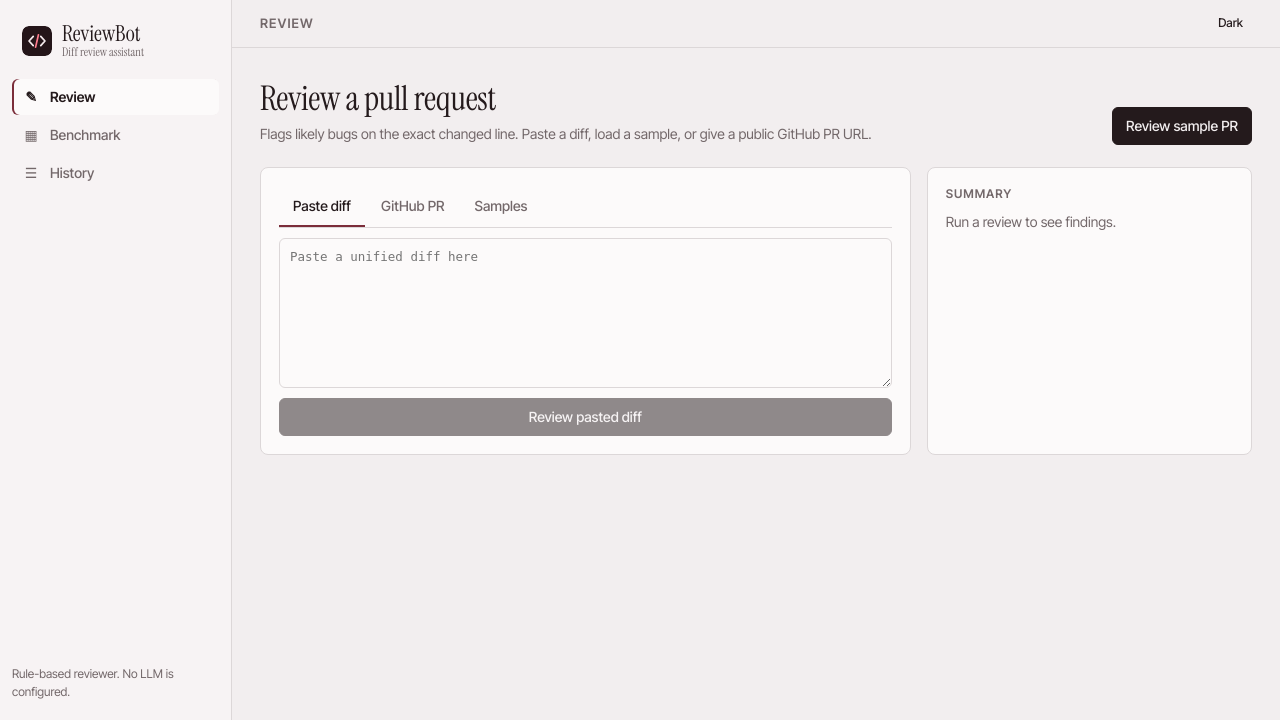
Test: Review sample reviews the sample and flags the vulnerable line
Click the button "Review sample PR" at (1182, 126), box [1112, 107, 1252, 145]
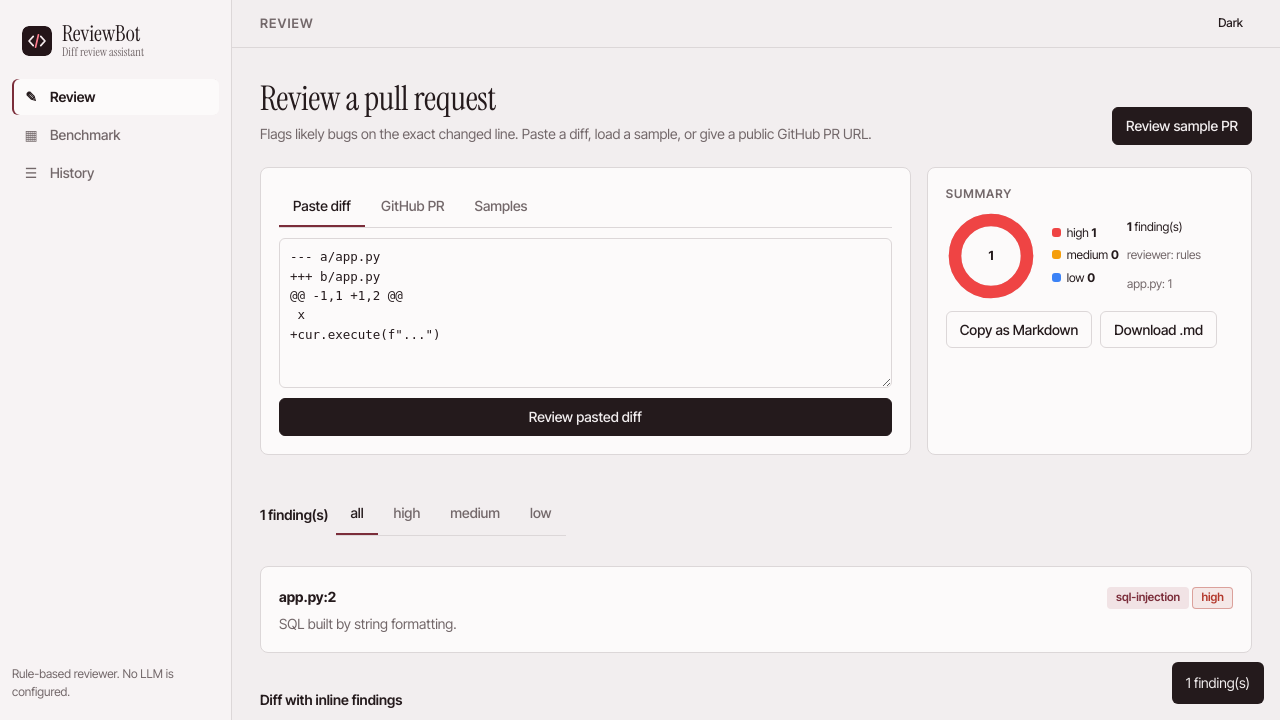
Check: the text "app.py:2" is shown, box [279, 586, 336, 608]
Check: the text "sql-injection" is shown, box [1107, 587, 1189, 608]
Check: the heading "1 finding(s)" is shown, box [260, 506, 328, 523]
